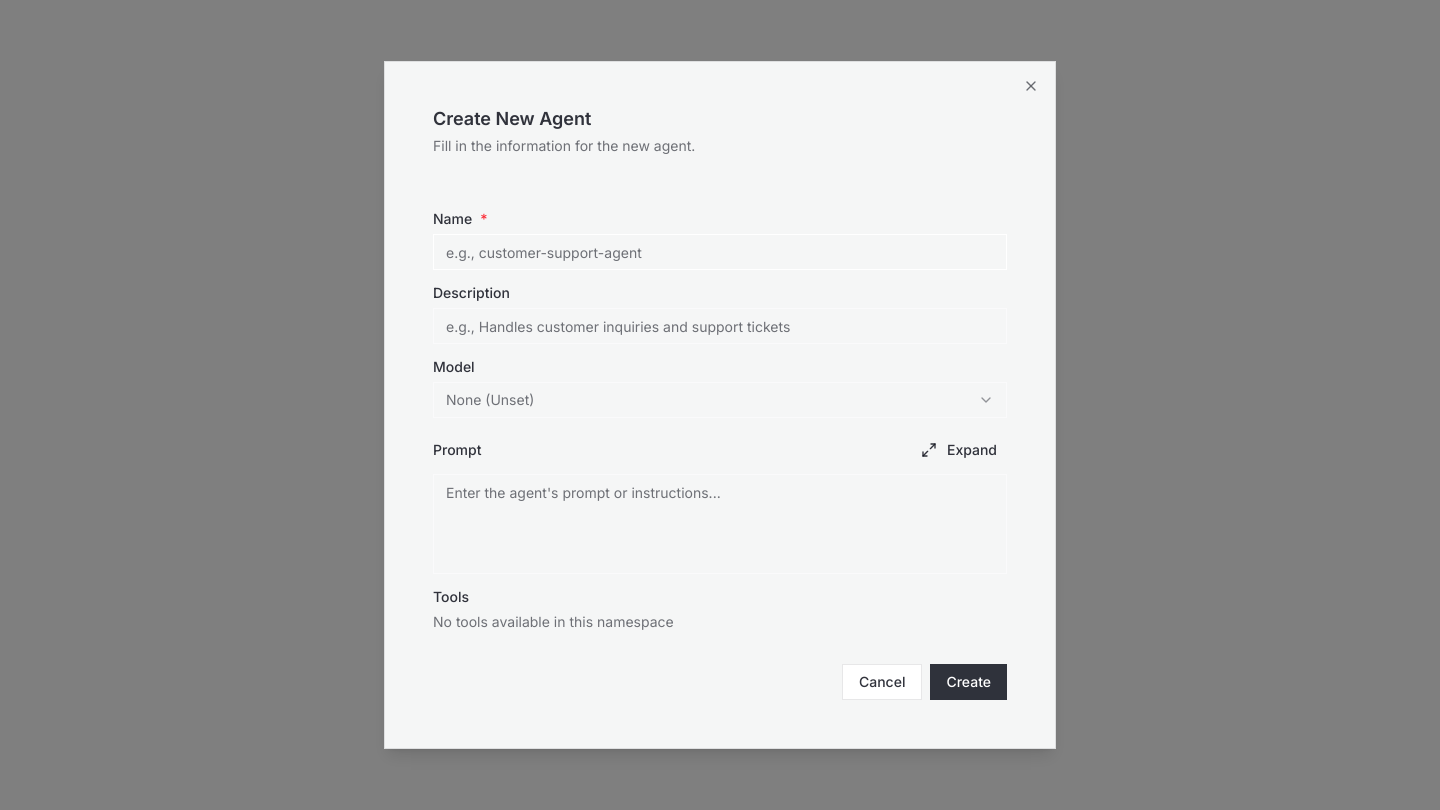
Test case: AgentEditor › validation › should show error for name starting with hyphen
The width and height of the screenshot is (1440, 810).
Type "-invalid-agent" into the field with placeholder "e.g., customer-support-agent". click: (720, 252)
box: [433,234,1007,270]
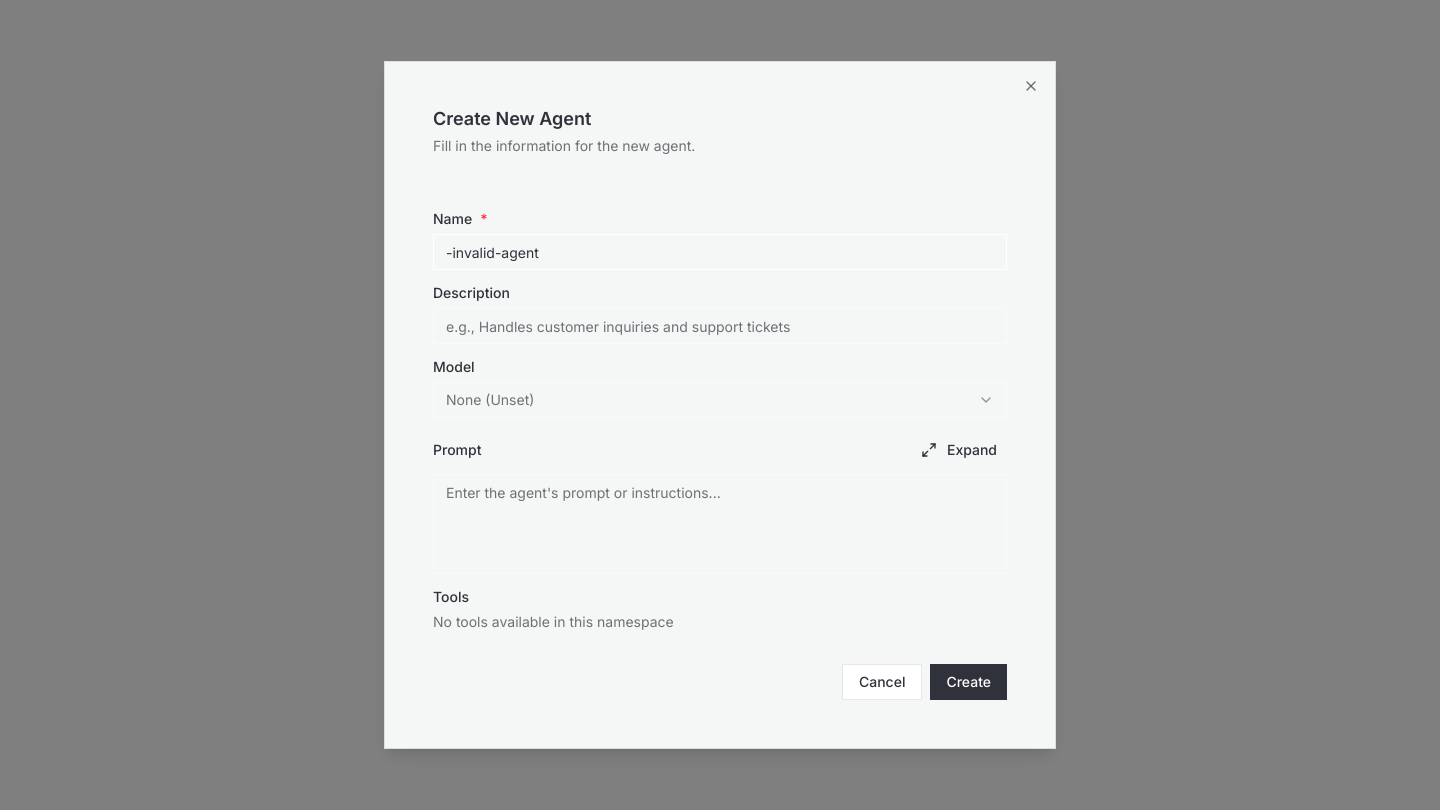
Click the button "Create". click: click(969, 682)
box: [930,664,1007,700]
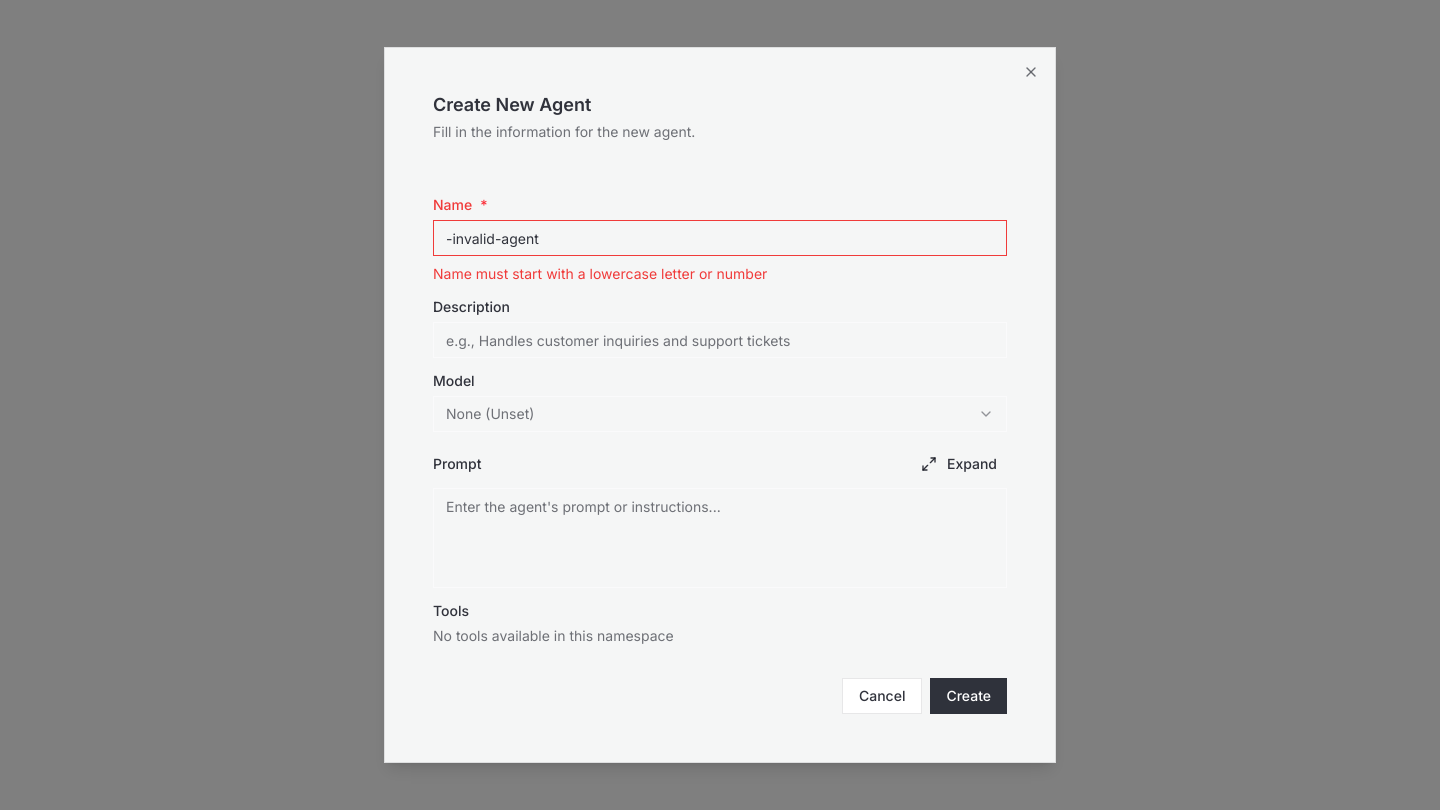
Check: the text "Name must start with a lowercase letter or number" is shown, box [433,265,767,282]
